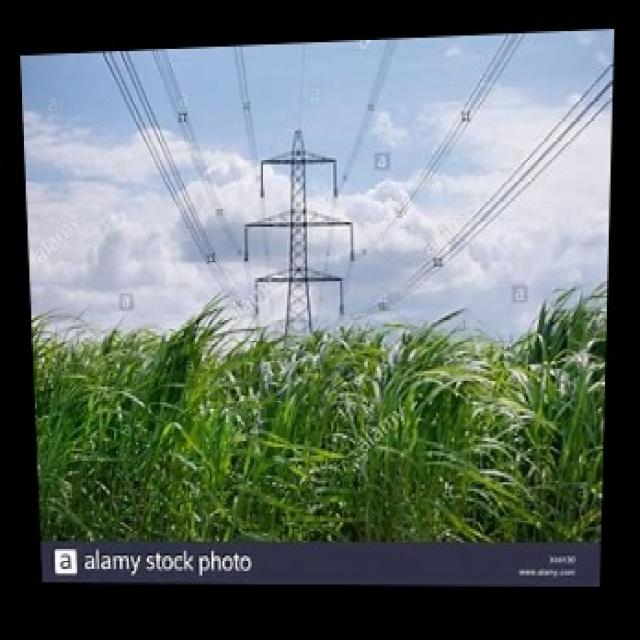utility poles: (241, 109, 357, 537)
